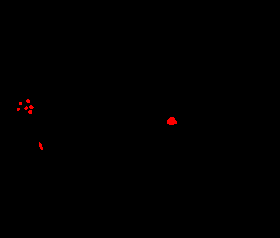Target: (167, 117, 177, 125), (39, 142, 43, 150), (29, 105, 34, 109), (26, 99, 30, 103), (24, 106, 28, 110), (28, 110, 32, 114), (19, 102, 22, 105), (17, 108, 20, 111)
